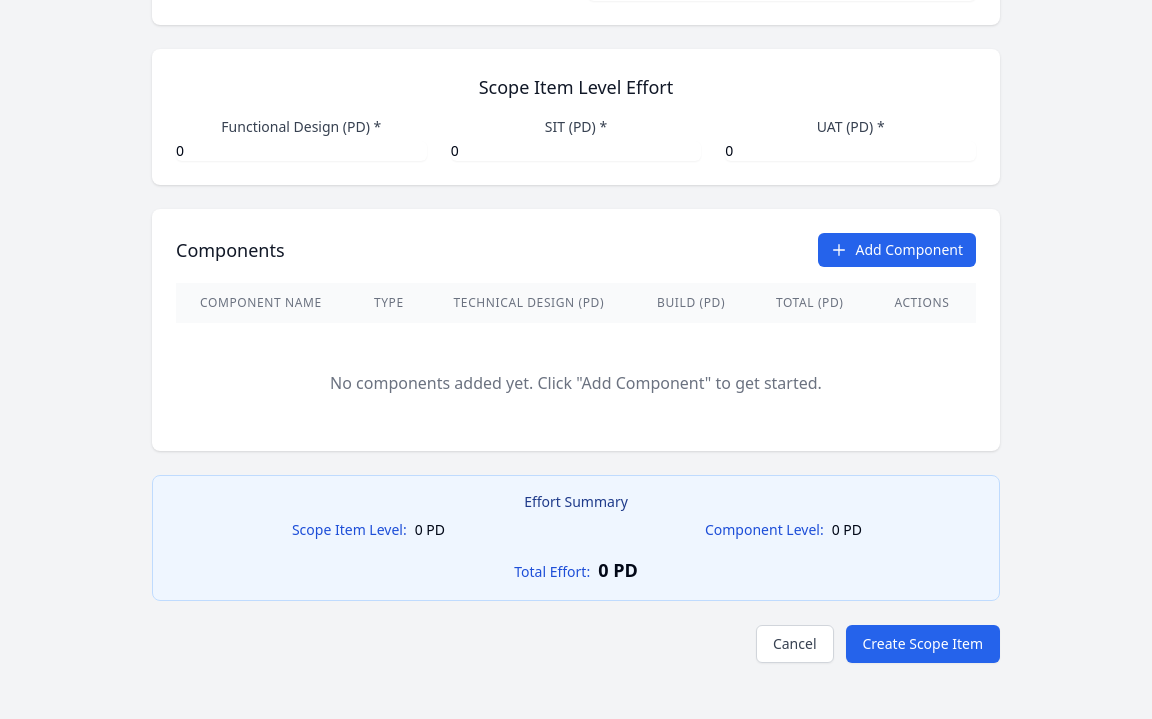
Scenario: ScopeItemForm › Form Validation › should show error when name is empty
(page scrolled)
Click the button "Create Scope Item": (923, 644) [846, 625, 1000, 663]
(page scrolled)
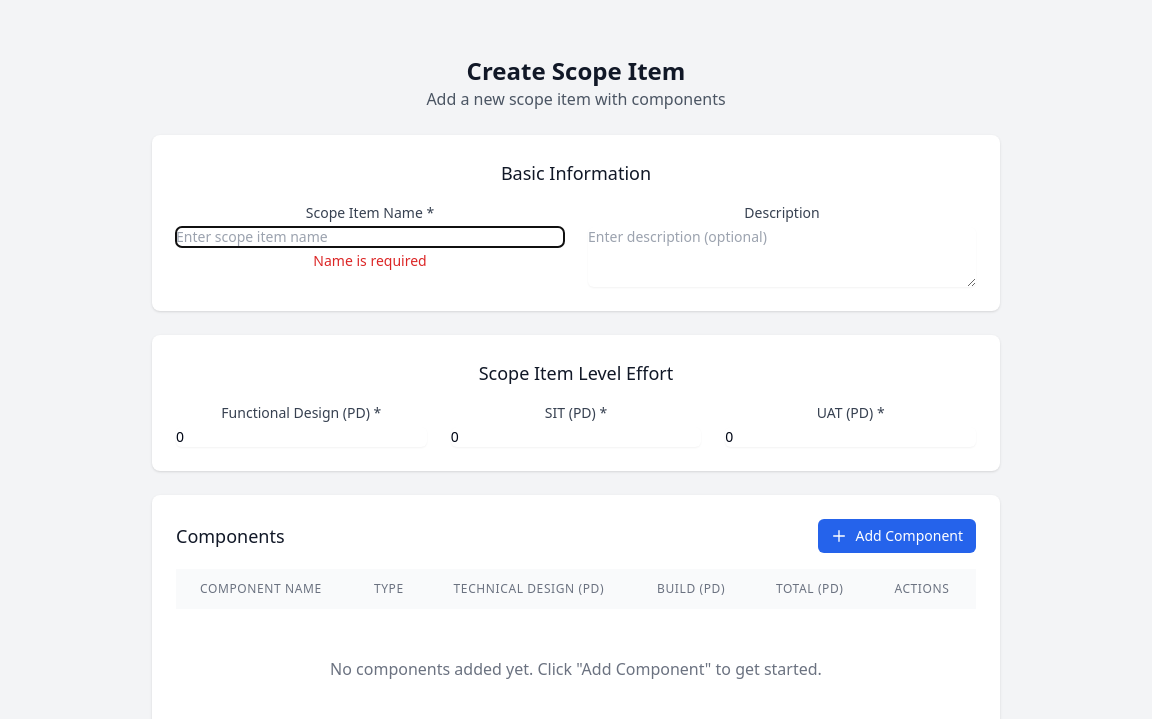
Now the text "Name is required" is shown, box [313, 251, 427, 270]
